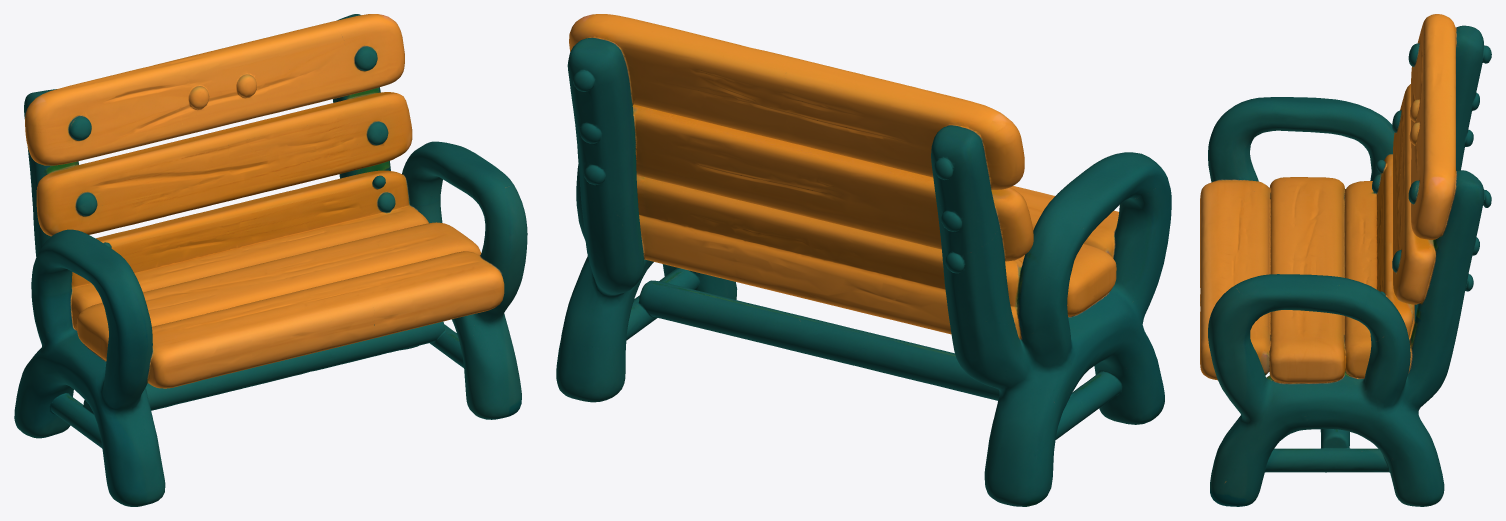
Rendered from prop_bench.glb.
The picture shows the model from 3 angles, left to right: view 1: azimuth 30°, elevation 25°; view 2: azimuth 150°, elevation 25°; view 3: azimuth 270°, elevation 25°; orthographic projection. The views are drawn at different scales.
Size of the model in its own units: 1.9 by 1.44 by 1.18.
1 material, 1 textured.
